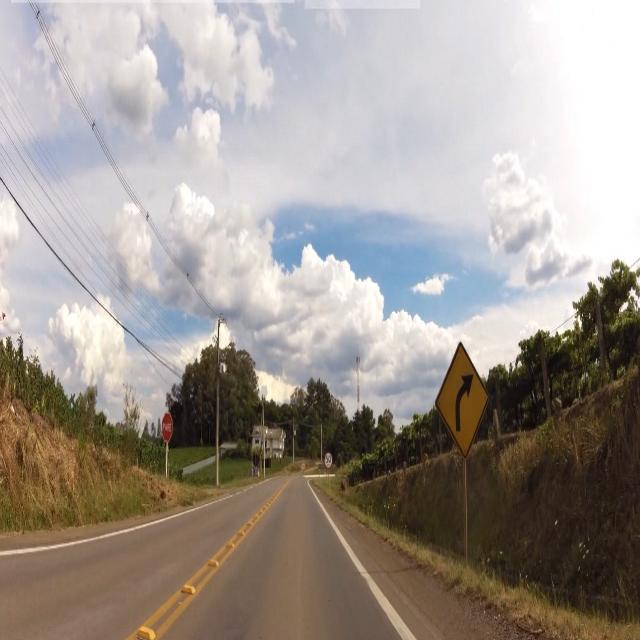A-2b: (434, 342, 492, 461)
